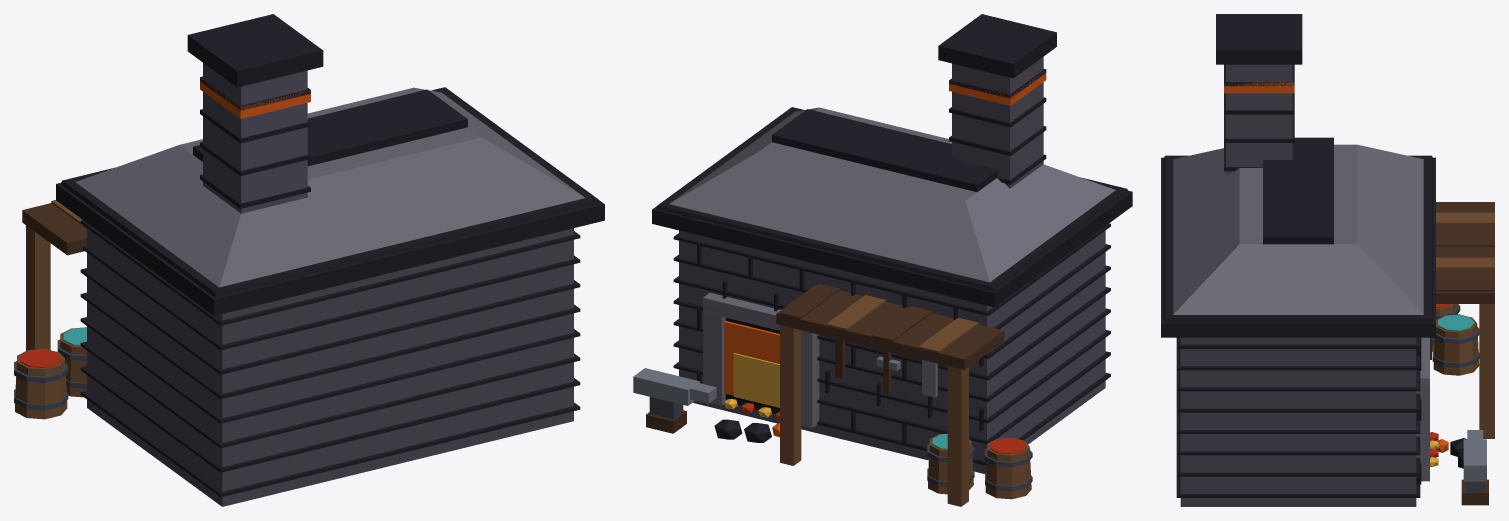
The model's file is Decor_Volcano_Forge.fbx.
3 views of the same model, side by side, from view 1: azimuth 30°, elevation 25°; view 2: azimuth 150°, elevation 25°; view 3: azimuth 270°, elevation 25° (orthographic). The views are drawn at different scales.
Visible parts, largest first — view 1: Forge_Body; view 2: Forge_Body; view 3: Forge_Body.
Part boxes in pixels (<box>): Forge_Body: <box>14,14,604,506</box>; Forge_Body: <box>633,14,1132,506</box>; Forge_Body: <box>1161,14,1494,506</box>.
Size of the model in its own units: 22 by 20.2 by 17.
